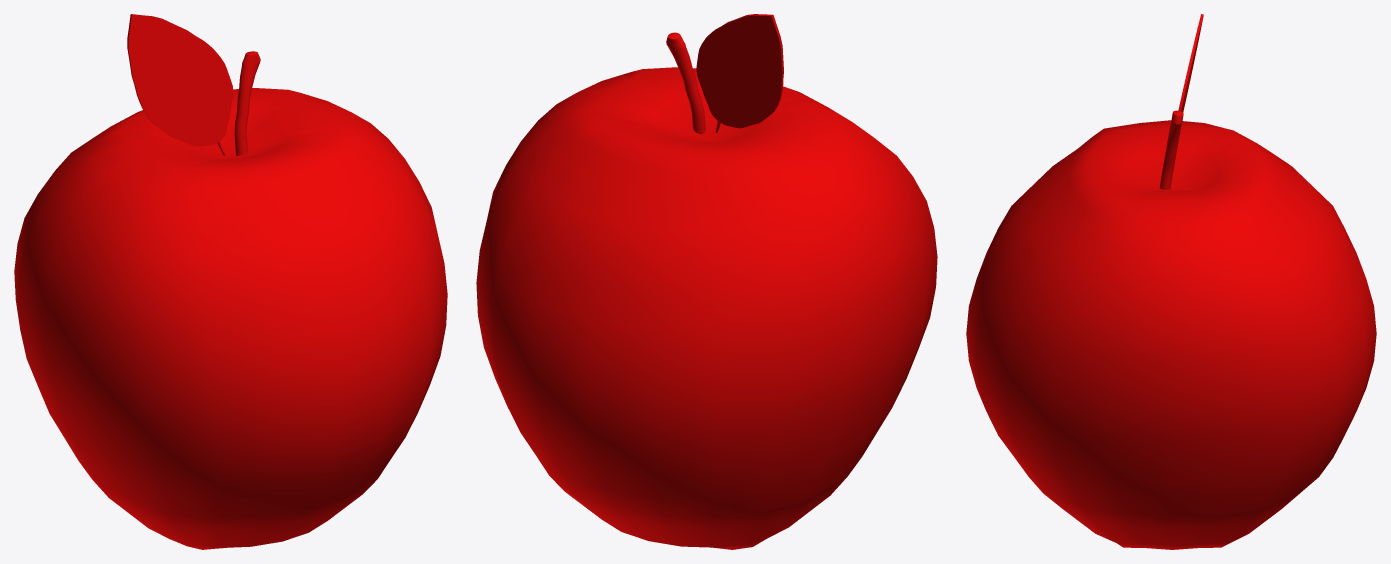
File: New_Apple.fbx
3 views of the same model, side by side, from view 1: azimuth 30°, elevation 25°; view 2: azimuth 150°, elevation 25°; view 3: azimuth 270°, elevation 25° (orthographic). The views are drawn at different scales.
Parts seen in each view (by area): view 1: polySurface3; view 2: polySurface3; view 3: polySurface3.
Part boxes in pixels (left/top/right/bottom): polySurface3: left=14, top=14, right=447, bottom=549; polySurface3: left=476, top=14, right=937, bottom=549; polySurface3: left=966, top=14, right=1376, bottom=549.
Size of the model in its own units: 26.25 by 35.2 by 27.31.
